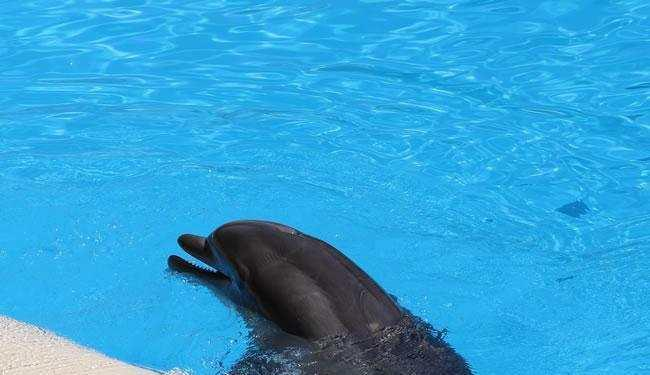fish: (167, 216, 473, 375)
